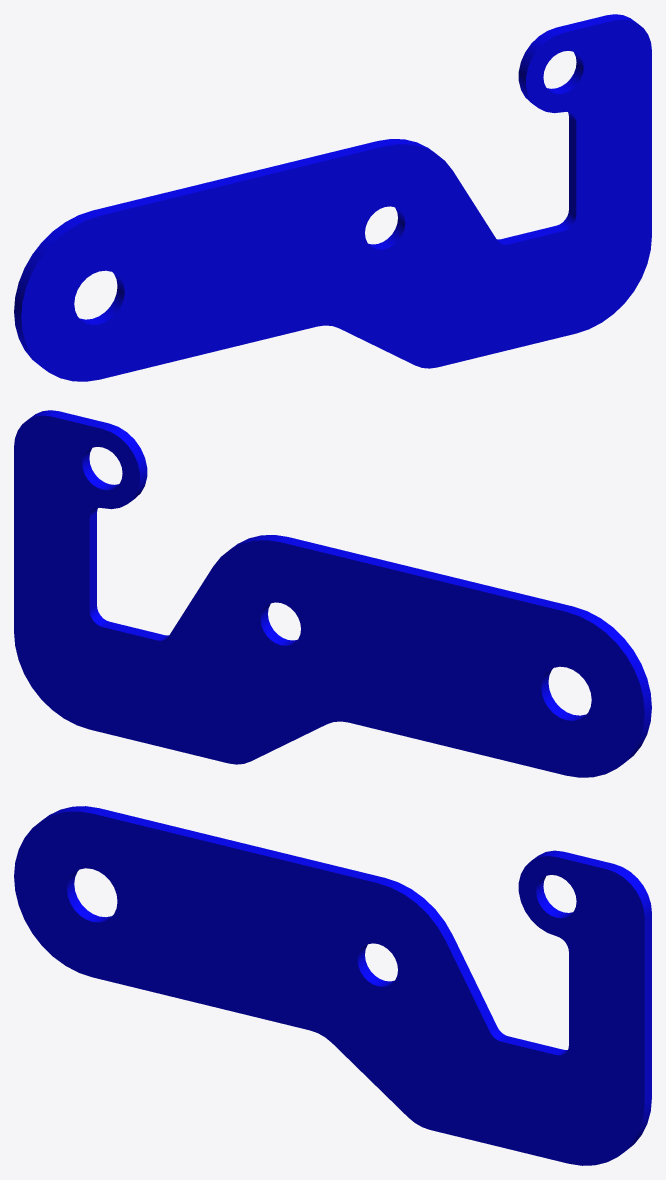
The model's file is Machoire.glb.
3 renders of one model, top to bottom at view 1: azimuth 30°, elevation 25°; view 2: azimuth 150°, elevation 25°; view 3: azimuth 330°, elevation 25°, orthographic.
Visible parts, largest first — view 1: Machoire; view 2: Machoire; view 3: Machoire.
Part boxes in pixels (bbox=[...]): Machoire: bbox=[14, 14, 651, 381]; Machoire: bbox=[14, 410, 651, 777]; Machoire: bbox=[14, 806, 651, 1165].
Size of the model in its own units: 0.2498 by 0.115 by 0.005.
